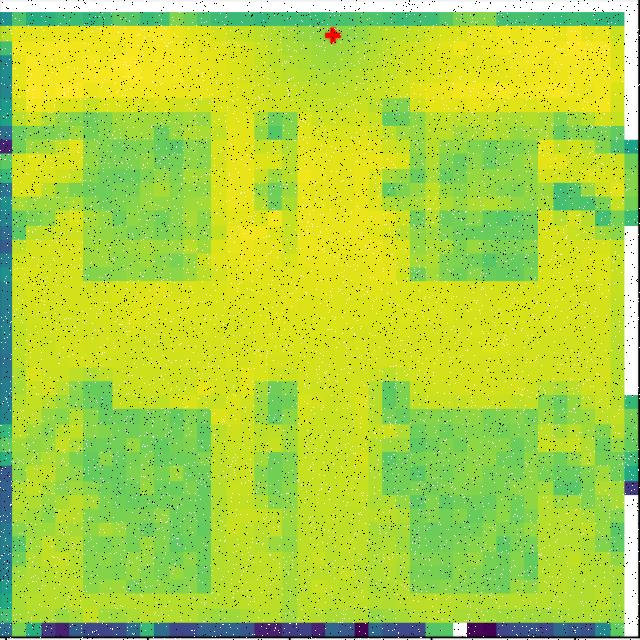Concrete: (78, 106, 213, 283)
Glass: (84, 410, 209, 594)
Metal: (408, 138, 540, 280)
Wood: (407, 411, 542, 596)
